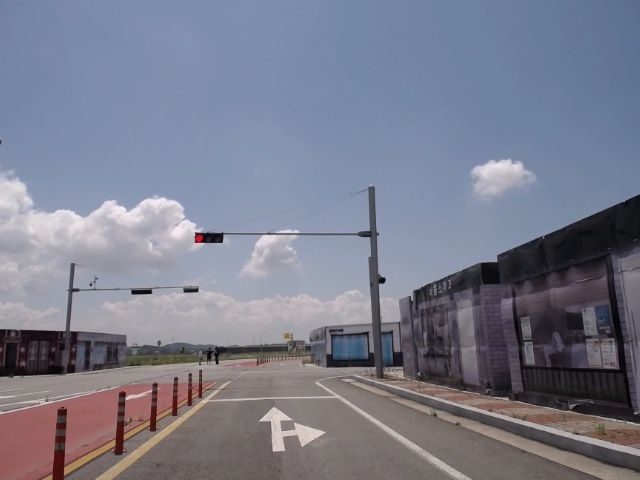red_3: (194, 233, 225, 245)
